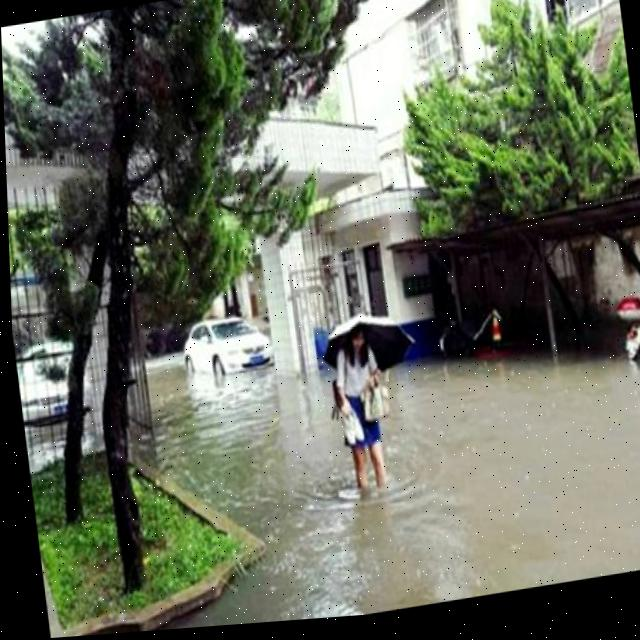civilian: (323, 320, 408, 500)
